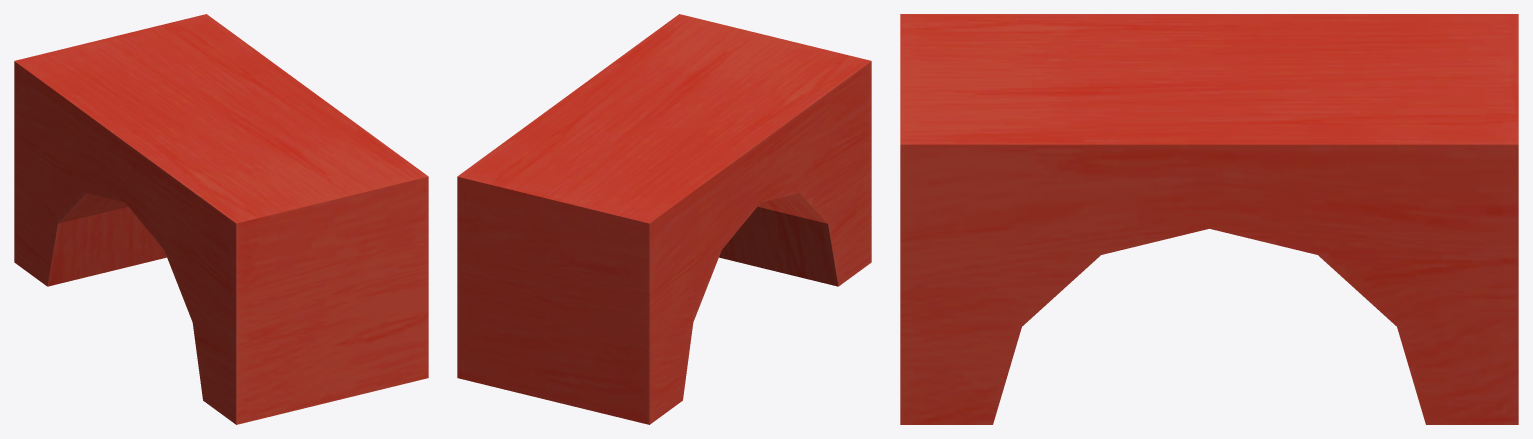
File: BridgeBlock_Red.fbx
3 views of the same model, side by side, from view 1: azimuth 30°, elevation 25°; view 2: azimuth 150°, elevation 25°; view 3: azimuth 270°, elevation 25° (orthographic). The views are drawn at different scales.
Visible parts, largest first — view 1: Cube.037; view 2: Cube.037; view 3: Cube.037.
Part boxes in pixels (x1=…): Cube.037: x1=14, y1=14, x2=428, y2=424; Cube.037: x1=457, y1=14, x2=871, y2=424; Cube.037: x1=900, y1=14, x2=1518, y2=424.
Bounding box in the file's own units: 100 × 100 × 200.
